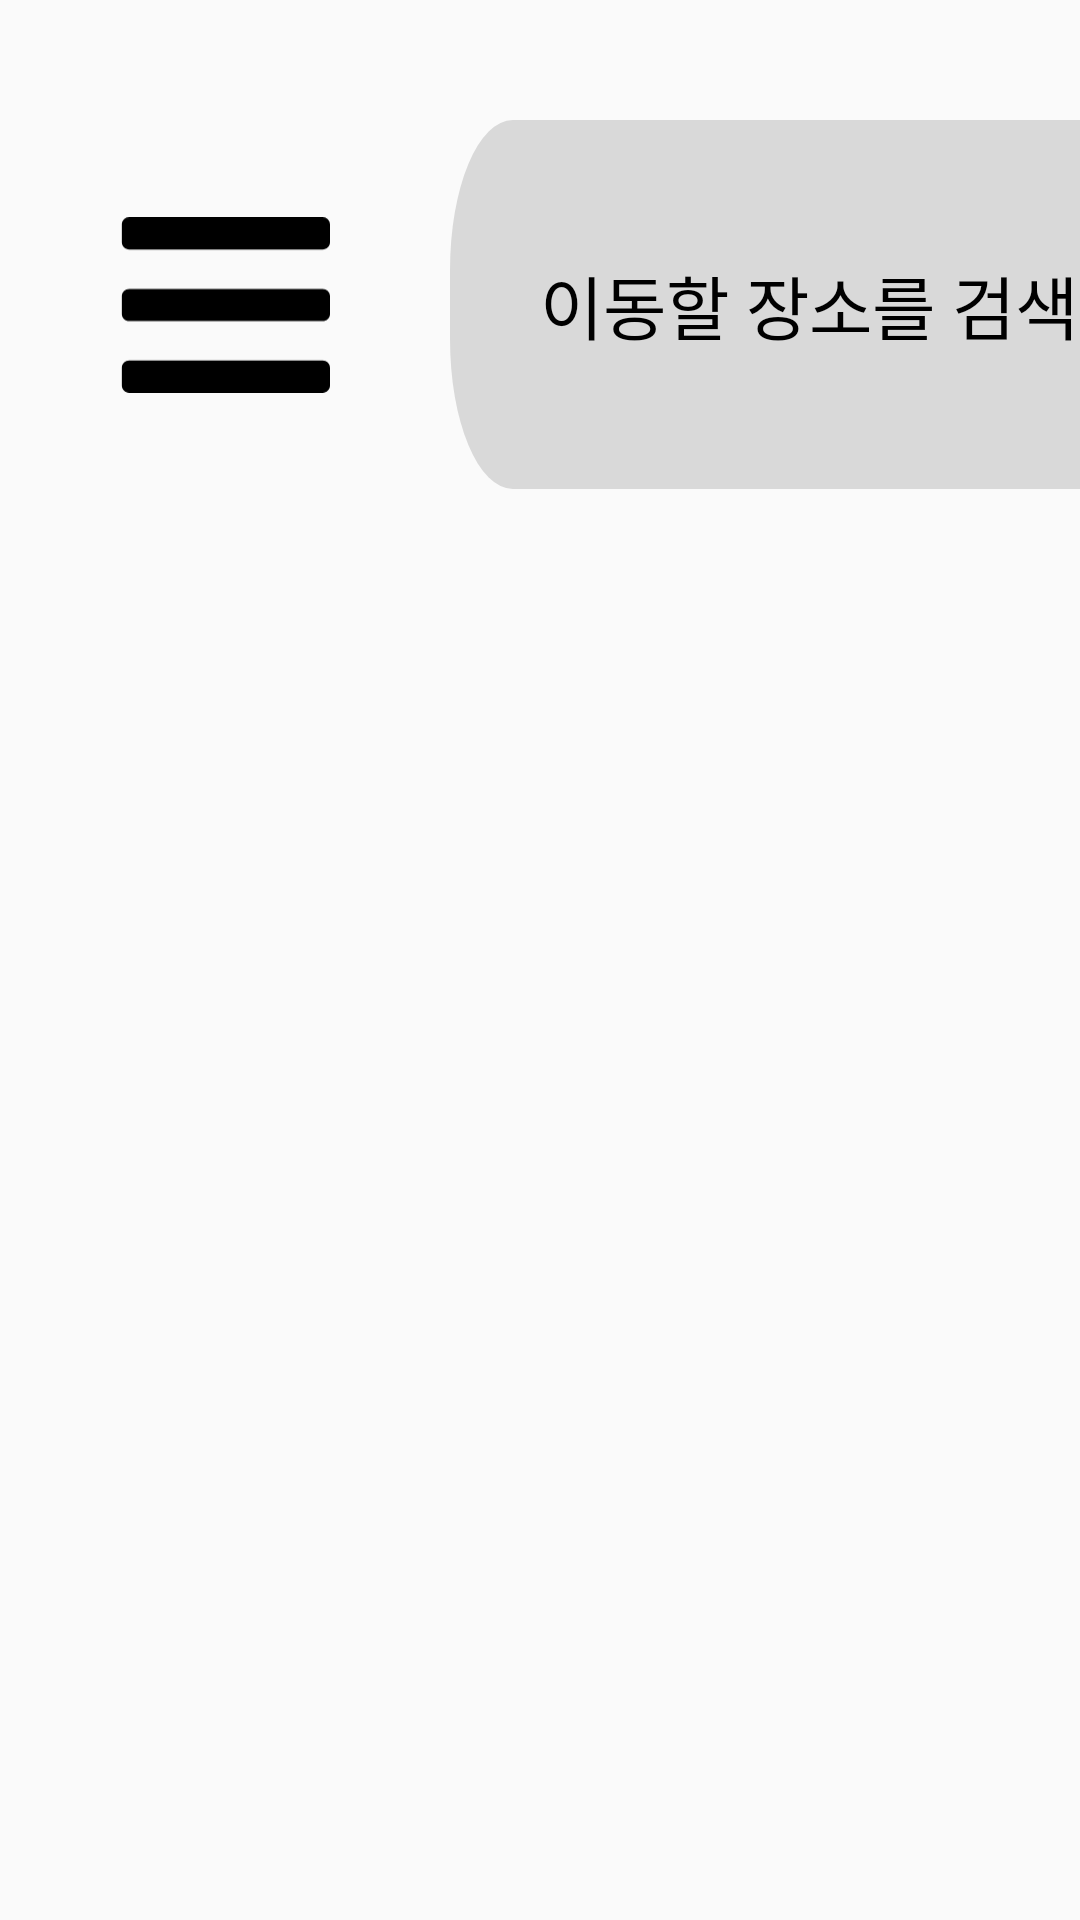

Icons on this 1080w x 1920h Android screen, each with the point to tap as (x,y):
hamburger: (225,305)
